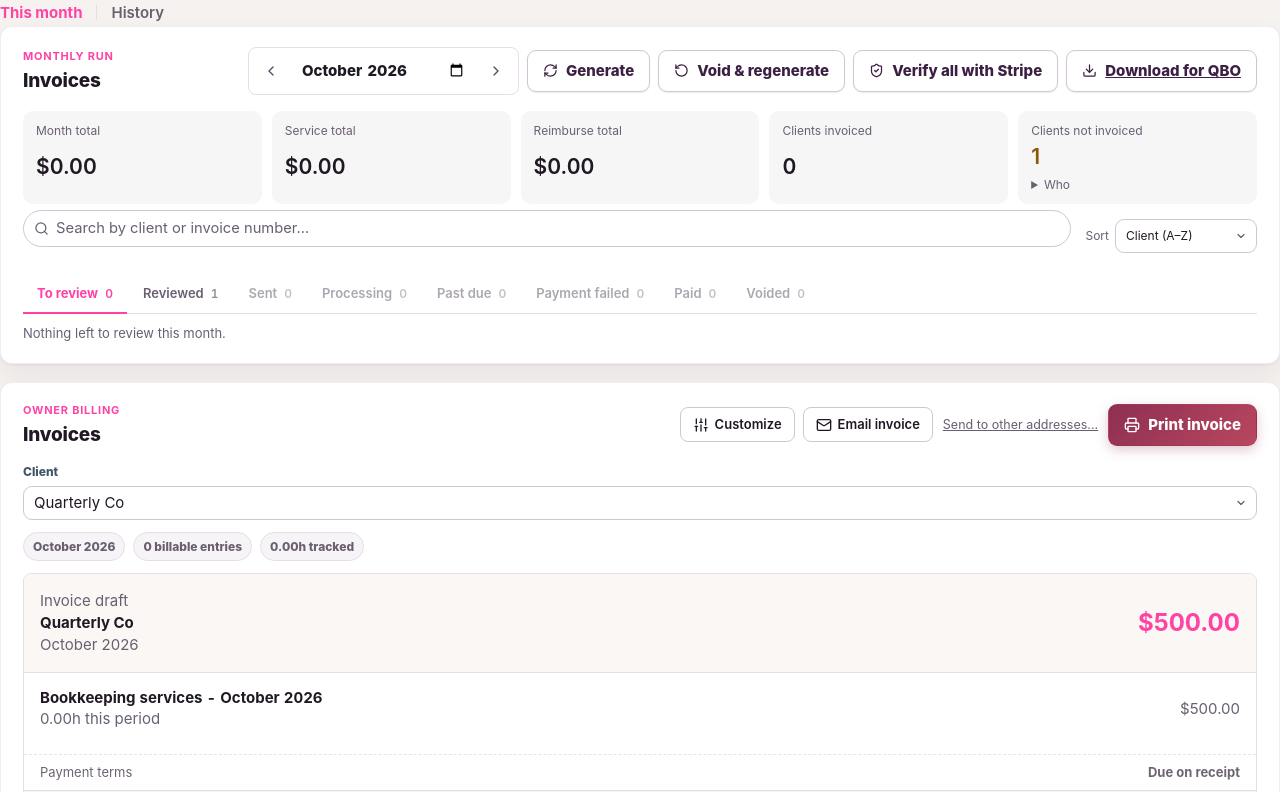
Email invoice and the billing-period hold › Send anyway repeats the send with allowUnpaidPrepayment and clears the question
What coordinates should you click on to do the following:
click the button "Email invoice"
I would click on:
 (868, 425)
Its box is [803, 407, 933, 442].
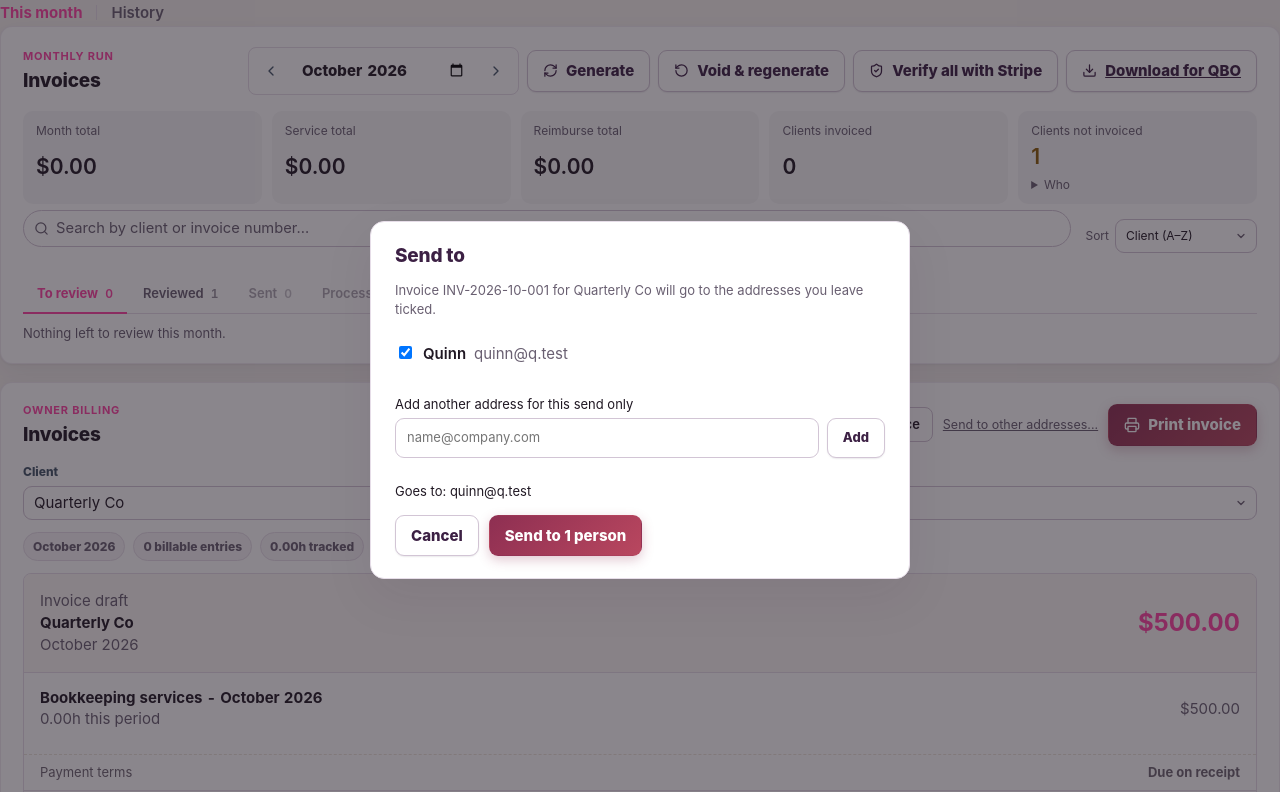
What coordinates should you click on to do the following:
click the button "Send to 1 person"
I would click on:
 (566, 536)
Its box is [489, 515, 642, 556].
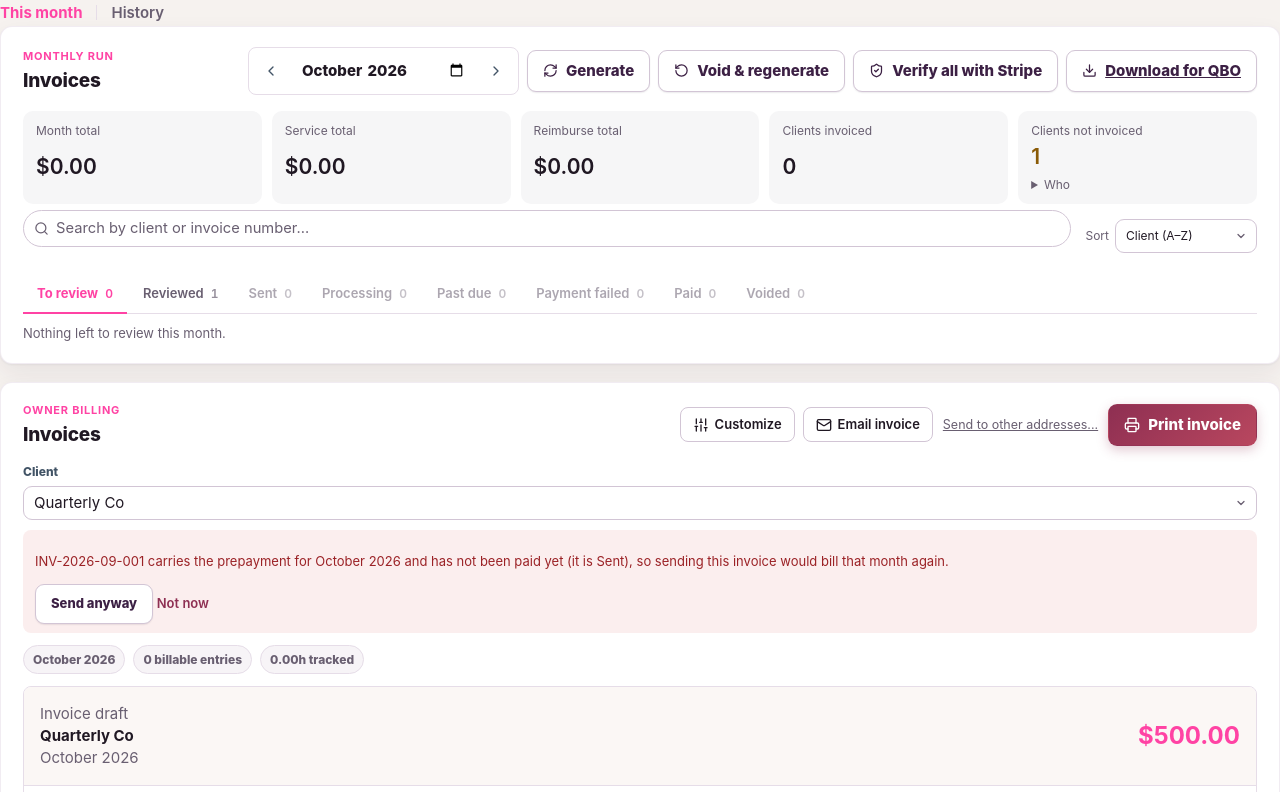
What coordinates should you click on to do the following:
click the button "Send anyway"
I would click on:
 (94, 604)
Its box is [35, 584, 153, 624].
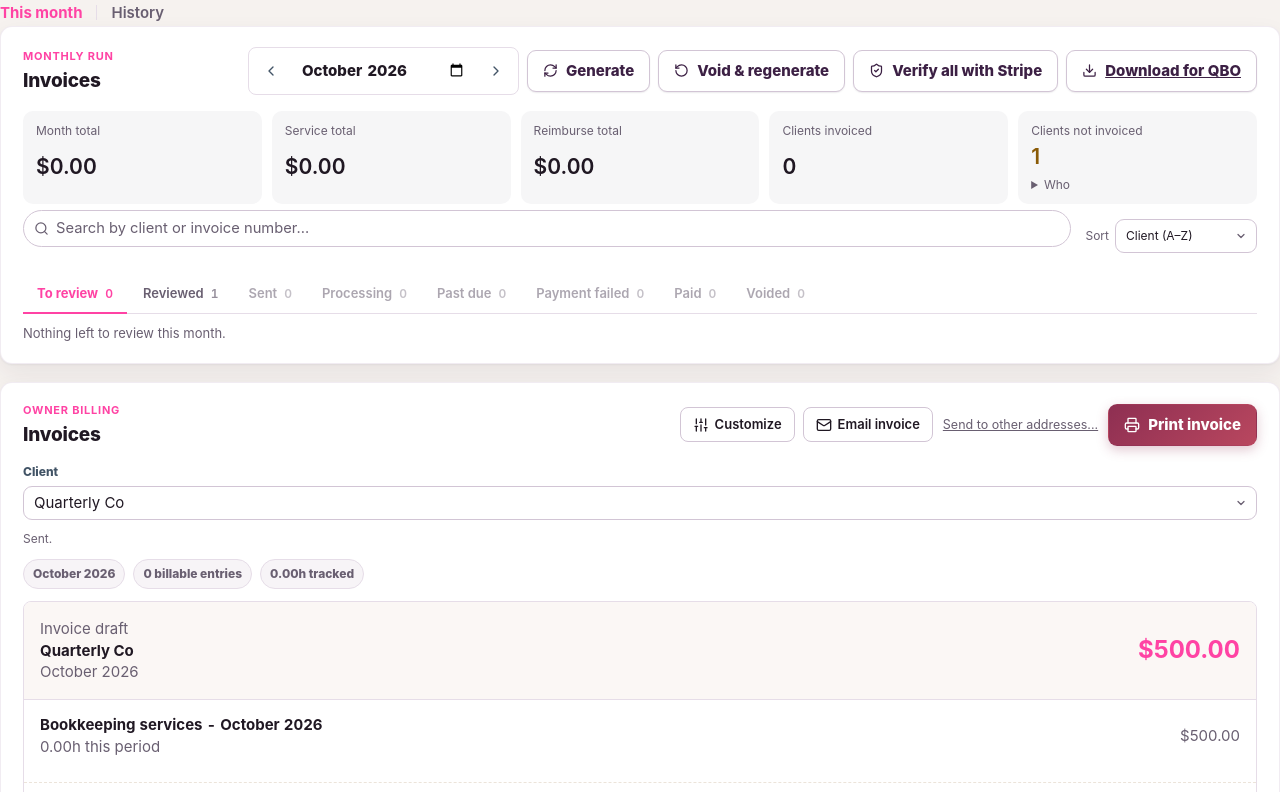
Check: the text "INV-2026-09-001 carries the prepayment for October 2026 and has not been paid yet (it is Sent), so sending this invoice " is gone
